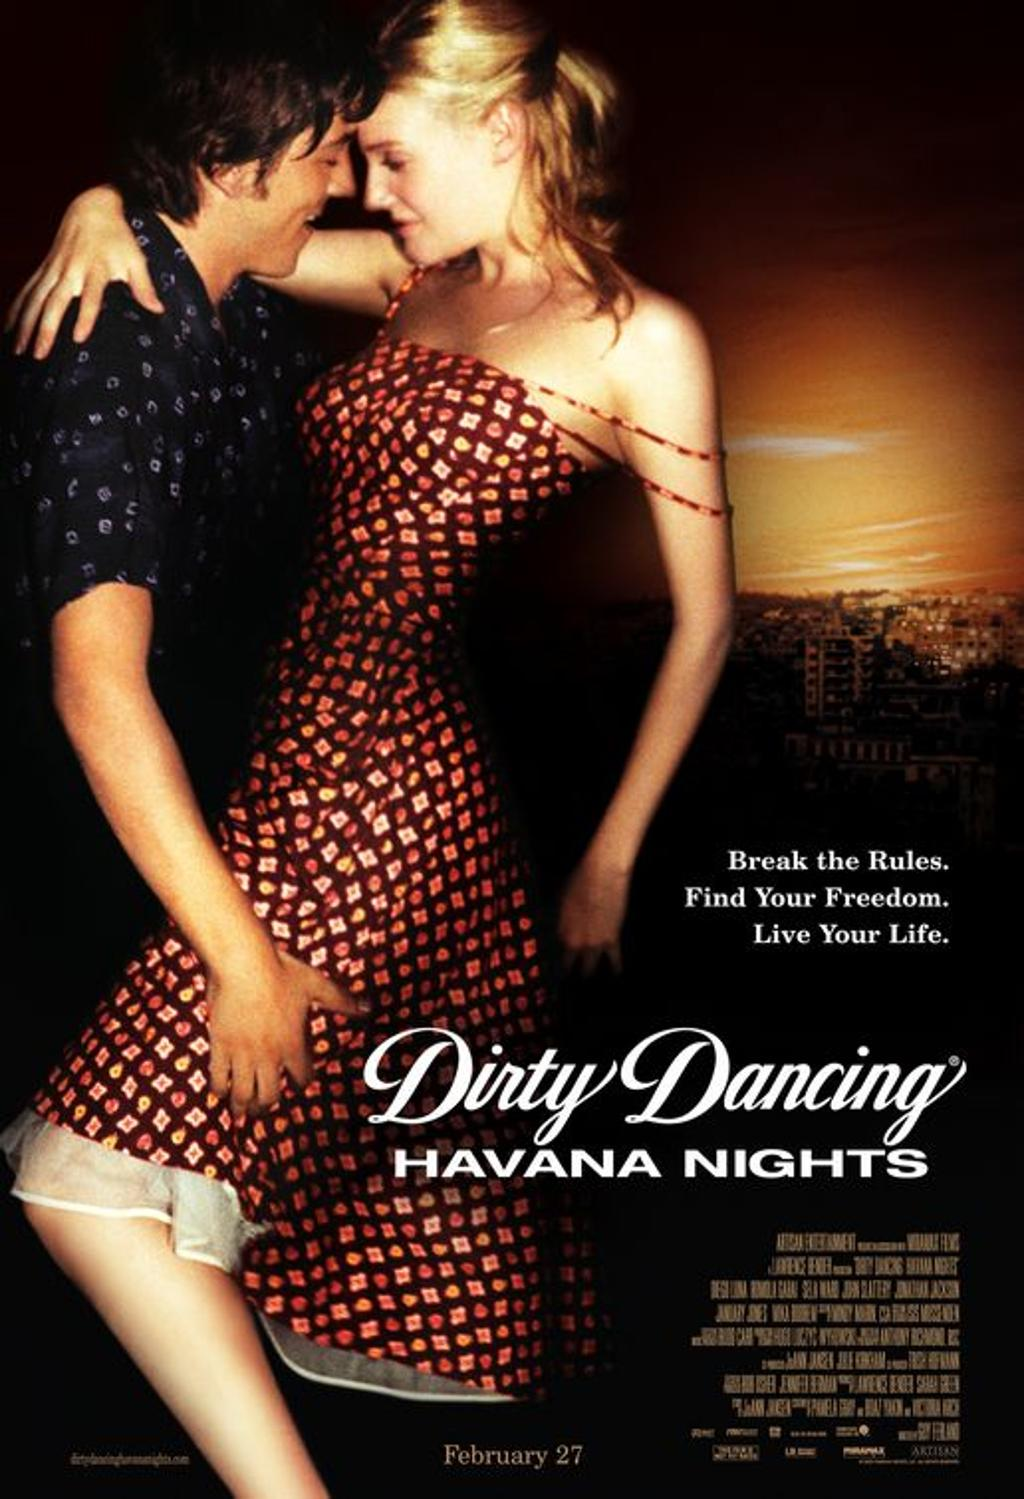face: (360, 70, 492, 266), (240, 79, 354, 275)
